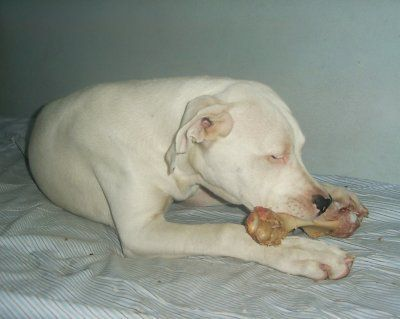dogo_argentino: (27, 74, 370, 281)
